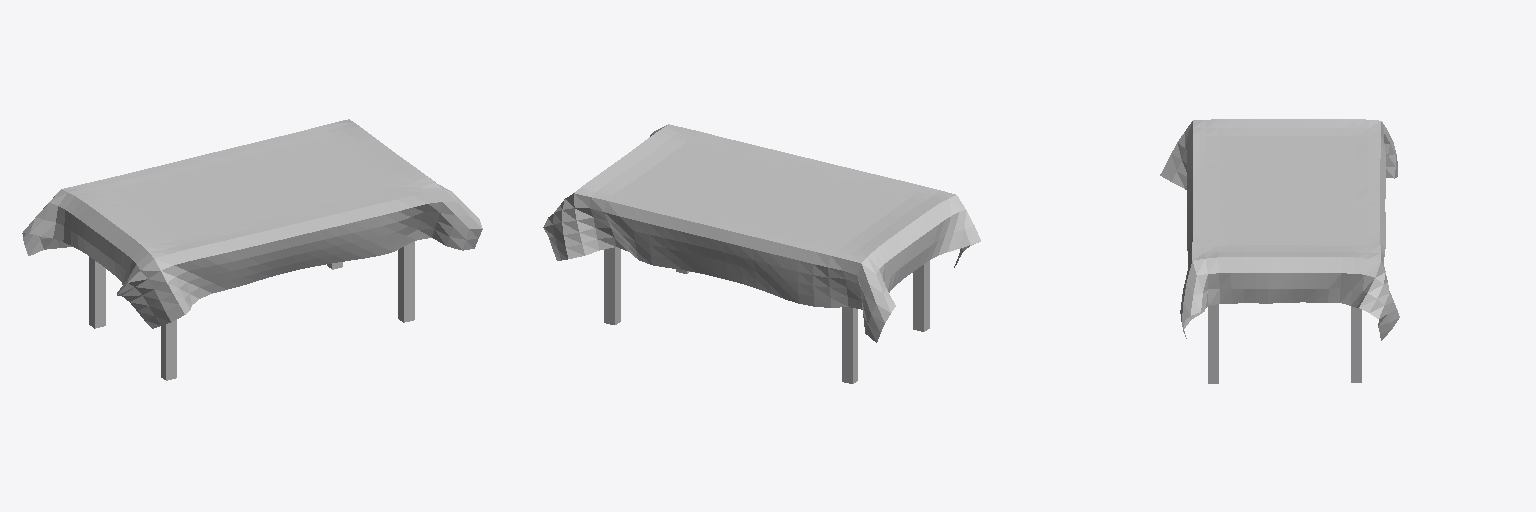
Rendered from Table.obj.
The picture shows the model from 3 angles: view 1: azimuth 30°, elevation 25°; view 2: azimuth 150°, elevation 25°; view 3: azimuth 270°, elevation 25°; orthographic projection.
Parts seen in each view (by area): view 1: Cloth, pPlane10; view 2: Cloth, pPlane10; view 3: Cloth, pPlane10.
Part boxes in pixels (left/top/right/bottom): Cloth: left=22, top=119, right=482, bottom=328; pPlane10: left=89, top=241, right=414, bottom=380; Cloth: left=543, top=124, right=980, bottom=342; pPlane10: left=604, top=247, right=929, bottom=383; Cloth: left=1160, top=119, right=1399, bottom=340; pPlane10: left=1208, top=304, right=1361, bottom=383.
Size of the model in its own units: 4.47 by 1.62 by 2.6.